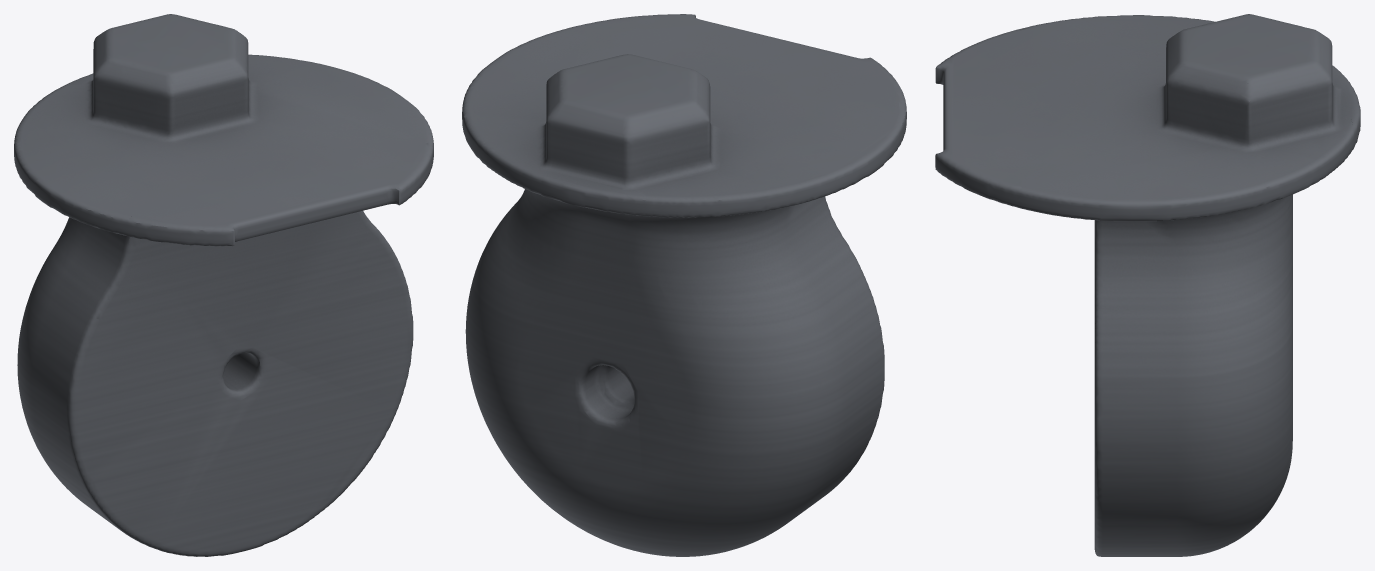
File: left_elbow_inword.glb
3 renders of one model, left to right at view 1: azimuth 30°, elevation 25°; view 2: azimuth 150°, elevation 25°; view 3: azimuth 270°, elevation 25°, orthographic. The views are drawn at different scales.
Visible parts, largest first — view 1: left_elbow_inword; view 2: left_elbow_inword; view 3: left_elbow_inword.
Boxes of the visible parts, x1=… form: left_elbow_inword: x1=14, y1=14, x2=433, y2=556; left_elbow_inword: x1=462, y1=14, x2=906, y2=556; left_elbow_inword: x1=935, y1=14, x2=1360, y2=556.
Size of the model in its own units: 0.056 by 0.0674 by 0.0529.
1 material, 1 textured.
